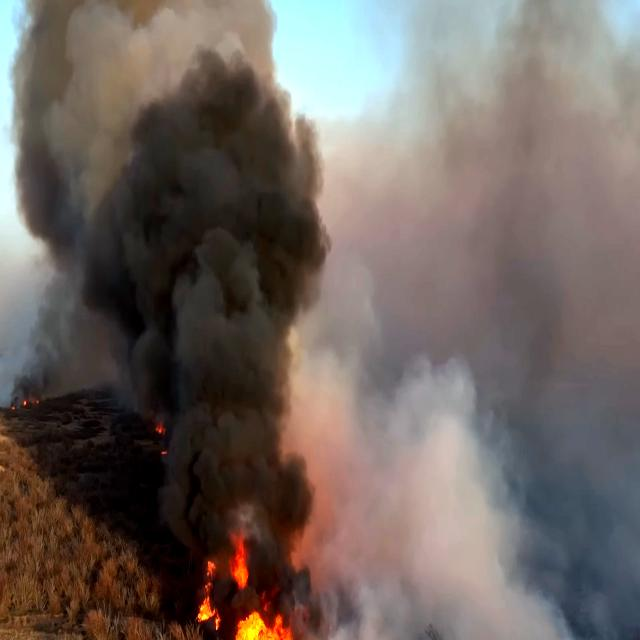fire: (234, 592, 295, 640)
smoke: (79, 0, 302, 285), (527, 7, 640, 564), (117, 110, 337, 387), (30, 0, 260, 216), (170, 439, 292, 577)
